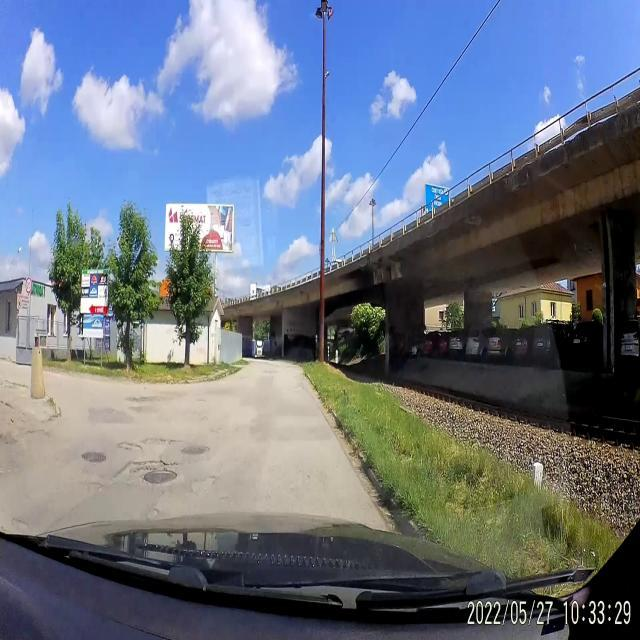Manhole: (142, 466, 178, 488), (181, 439, 212, 462), (80, 449, 108, 466)
Pothole: (109, 468, 142, 491), (121, 456, 170, 468), (192, 474, 218, 494), (144, 436, 175, 448), (118, 437, 142, 452), (146, 505, 162, 521), (126, 394, 150, 402), (195, 396, 208, 406), (218, 494, 232, 502)
